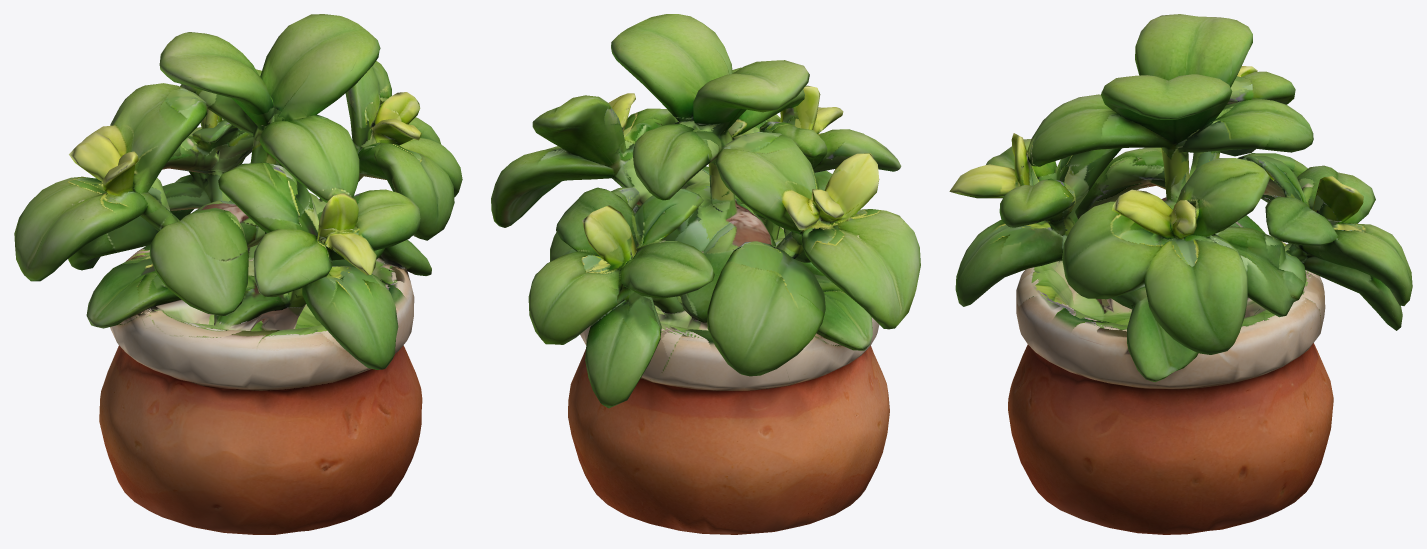
Rendered from KitchenHerbCartoon.glb.
3 views of the same model, side by side, from view 1: azimuth 30°, elevation 25°; view 2: azimuth 150°, elevation 25°; view 3: azimuth 270°, elevation 25° (orthographic).
Visible parts, largest first — view 1: texture_mapping; view 2: texture_mapping; view 3: texture_mapping.
Boxes of the visible parts, <box> form: texture_mapping: <box>14,14,462,534</box>; texture_mapping: <box>491,14,920,534</box>; texture_mapping: <box>949,14,1412,534</box>.
Size of the model in its own units: 0.9726 by 1 by 0.9408.
1 material, 1 textured.
